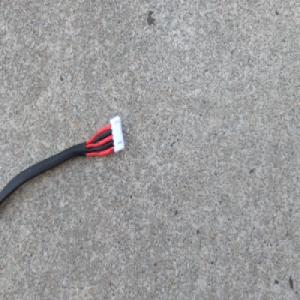Wire: (0, 112, 126, 211)
